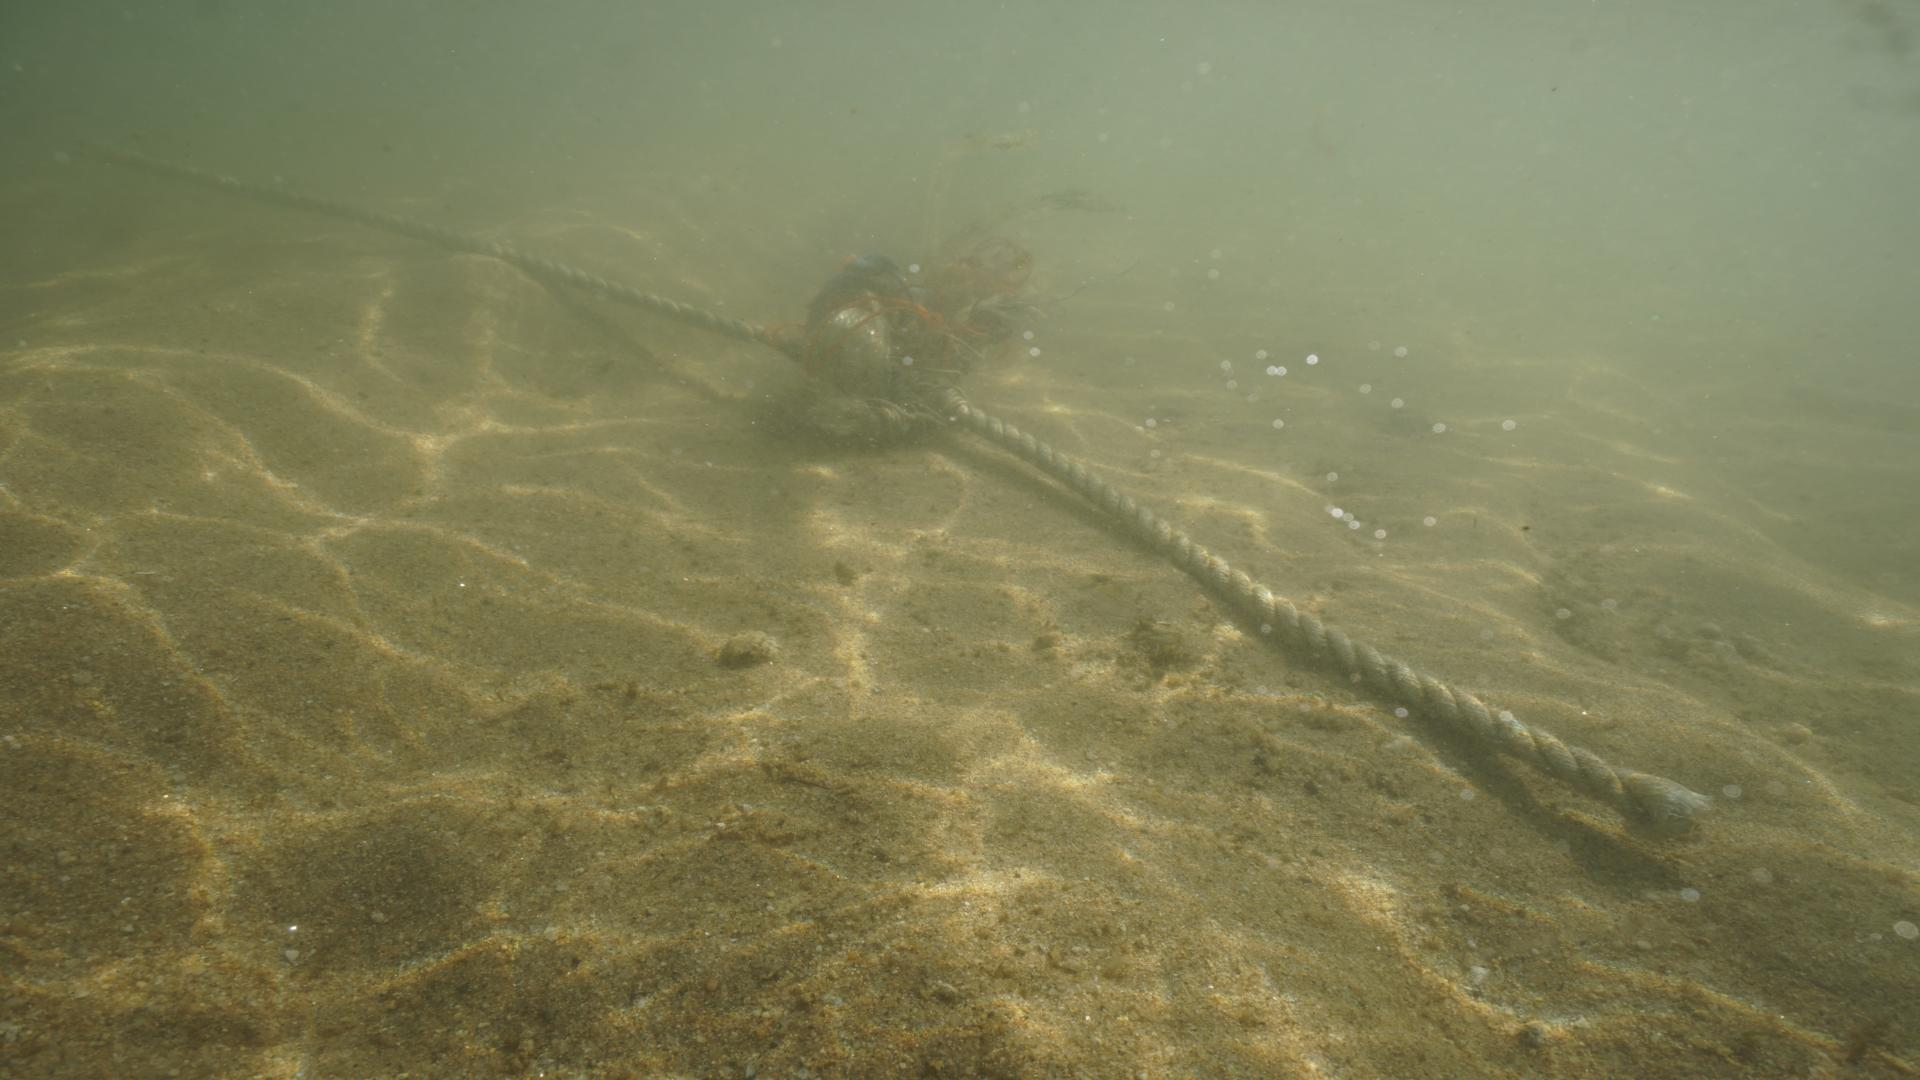rope: (0, 133, 1644, 798)
